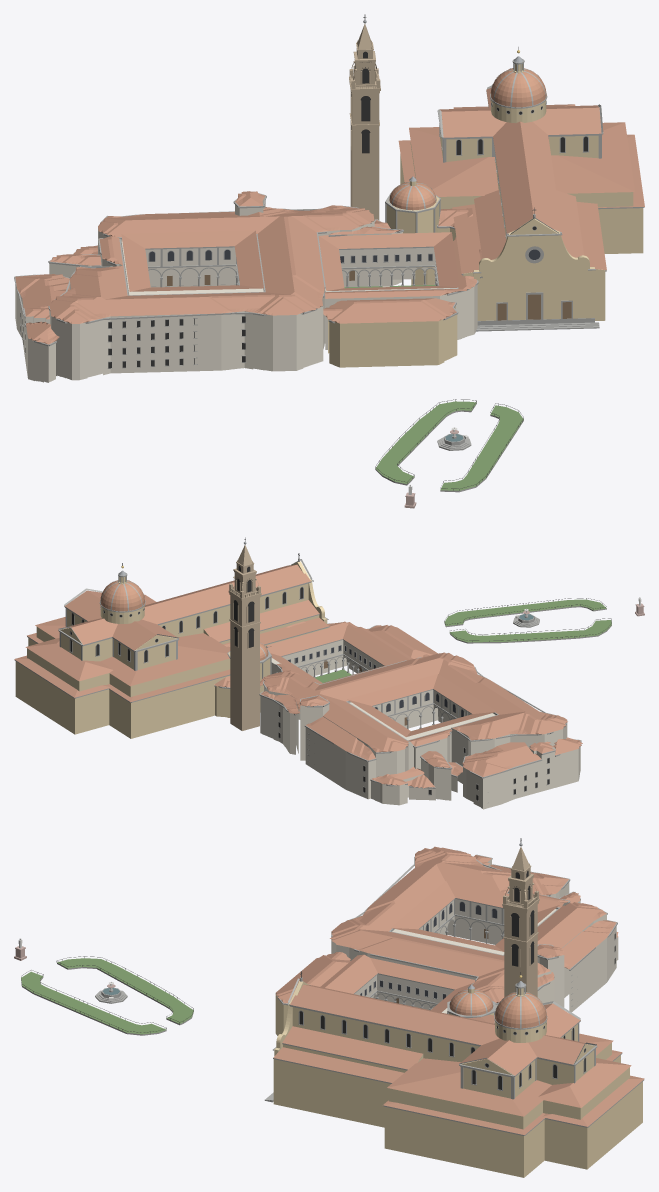
File: santo_spirito.glb
3 views of the same model, one above another, from view 1: azimuth 30°, elevation 25°; view 2: azimuth 150°, elevation 25°; view 3: azimuth 270°, elevation 25° (orthographic). The views are drawn at different scales.
Parts seen in each view (by area): view 1: chiesa@1481-99999.roof, convento@1300-99999.roof_m, convento@1300-99999.conv, facciata@1750-99999.plaster, chiesa@1481-99999.plaster, cenacolo@1350-99999.plaster, campanile@1570-99999.forte, chiostro_grande@1569-99999.roof, piazza_aiuole@1869-99999.lawn, chiostro_morti@1620-99999.roof, chiostro_grande@1569-99999.conv, cenacolo@1350-99999.roof_m (+12 smaller); view 2: convento@1300-99999.roof_m, chiesa@1481-99999.plaster, convento@1300-99999.conv, chiesa@1481-99999.roof, campanile@1570-99999.forte, chiostro_grande@1569-99999.roof, piazza_aiuole@1869-99999.lawn, chiostro_morti@1620-99999.roof, chiesa@1481-99999.serena, chiostro_grande@1569-99999.conv, convento@1300-99999.serena, chiostro_morti@1620-99999.conv (+11 smaller); view 3: chiesa@1481-99999.plaster, chiesa@1481-99999.roof, convento@1300-99999.roof_m, convento@1300-99999.conv, campanile@1570-99999.forte, piazza_aiuole@1869-99999.lawn, chiesa@1481-99999.serena, chiostro_grande@1569-99999.roof, chiostro_grande@1569-99999.conv, chiostro_morti@1620-99999.roof, chiostro_morti@1620-99999.conv, cupola@1481-99999.tile (+11 smaller).
Boxes of the visible parts, x1,y1,x2,y2 form: chiesa@1481-99999.roof: (398, 87, 644, 273); convento@1300-99999.roof_m: (15, 191, 482, 344); convento@1300-99999.conv: (15, 197, 477, 382); facciata@1750-99999.plaster: (473, 218, 594, 320); chiesa@1481-99999.plaster: (400, 106, 643, 320); cenacolo@1350-99999.plaster: (328, 306, 457, 367); campanile@1570-99999.forte: (349, 24, 380, 220); chiostro_grande@1569-99999.roof: (121, 230, 263, 291); piazza_aiuole@1869-99999.lawn: (375, 401, 523, 490); chiostro_morti@1620-99999.roof: (318, 232, 459, 290); chiostro_grande@1569-99999.conv: (121, 240, 263, 295); cenacolo@1350-99999.roof_m: (323, 298, 456, 323); convento@1300-99999.roof_m: (260, 621, 582, 788); chiesa@1481-99999.plaster: (15, 583, 328, 738); convento@1300-99999.conv: (260, 646, 580, 809); chiesa@1481-99999.roof: (14, 564, 328, 702); campanile@1570-99999.forte: (228, 545, 261, 730); chiostro_grande@1569-99999.roof: (347, 674, 496, 736); piazza_aiuole@1869-99999.lawn: (444, 599, 611, 642); chiostro_morti@1620-99999.roof: (267, 625, 402, 684); chiesa@1481-99999.serena: (14, 581, 329, 702); chiostro_grande@1569-99999.conv: (350, 690, 495, 740); convento@1300-99999.serena: (259, 623, 581, 802); chiostro_morti@1620-99999.conv: (271, 640, 383, 673); chiesa@1481-99999.plaster: (273, 1007, 642, 1177); chiesa@1481-99999.roof: (273, 984, 644, 1135); convento@1300-99999.roof_m: (320, 846, 618, 1002); convento@1300-99999.conv: (331, 859, 618, 1012); campanile@1570-99999.forte: (502, 846, 539, 997); piazza_aiuole@1869-99999.lawn: (21, 958, 193, 1034); chiesa@1481-99999.serena: (273, 1001, 644, 1135); chiostro_grande@1569-99999.roof: (390, 880, 559, 951); chiostro_grande@1569-99999.conv: (392, 899, 556, 954); chiostro_morti@1620-99999.roof: (332, 958, 474, 1012); chiostro_morti@1620-99999.conv: (354, 974, 453, 1013); cupola@1481-99999.tile: (495, 992, 546, 1028).
Bounding box in the file's own units: 189 × 67.78 × 172.
